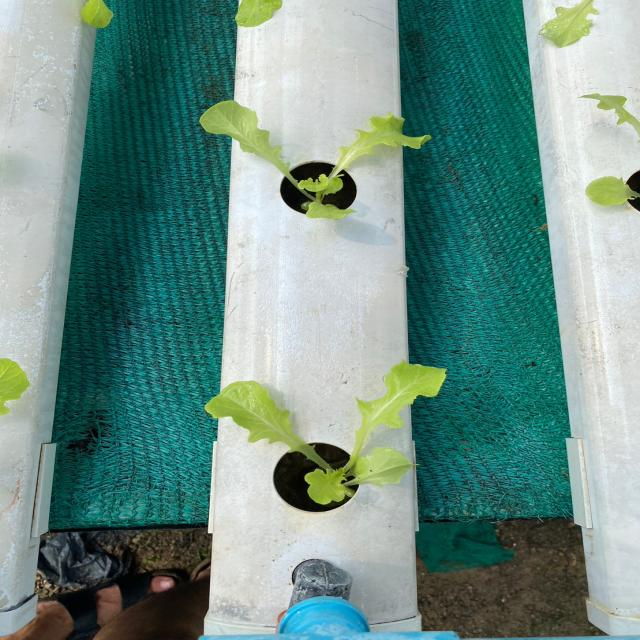Lettuce-Not-Ready-to-Harvest: (197, 353, 458, 512), (187, 94, 433, 224)
